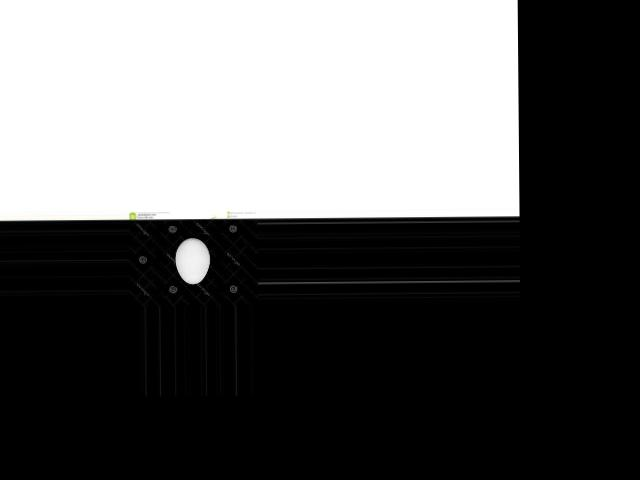egg: (176, 237, 211, 284)
